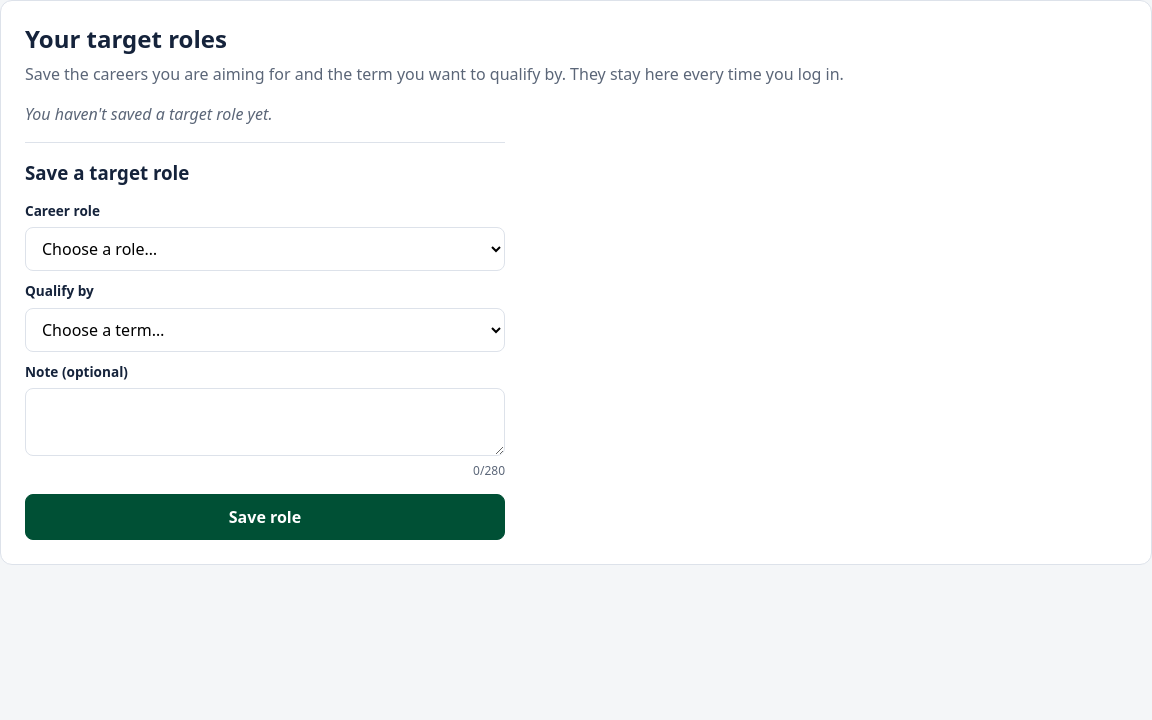
Issue #3: SavedRoles component › shows the server's error when saving fails
Select "Data Analyst" in the dropdown labelled "Career role". click: (265,249)
box: x1=25 y1=227 x2=505 y2=271
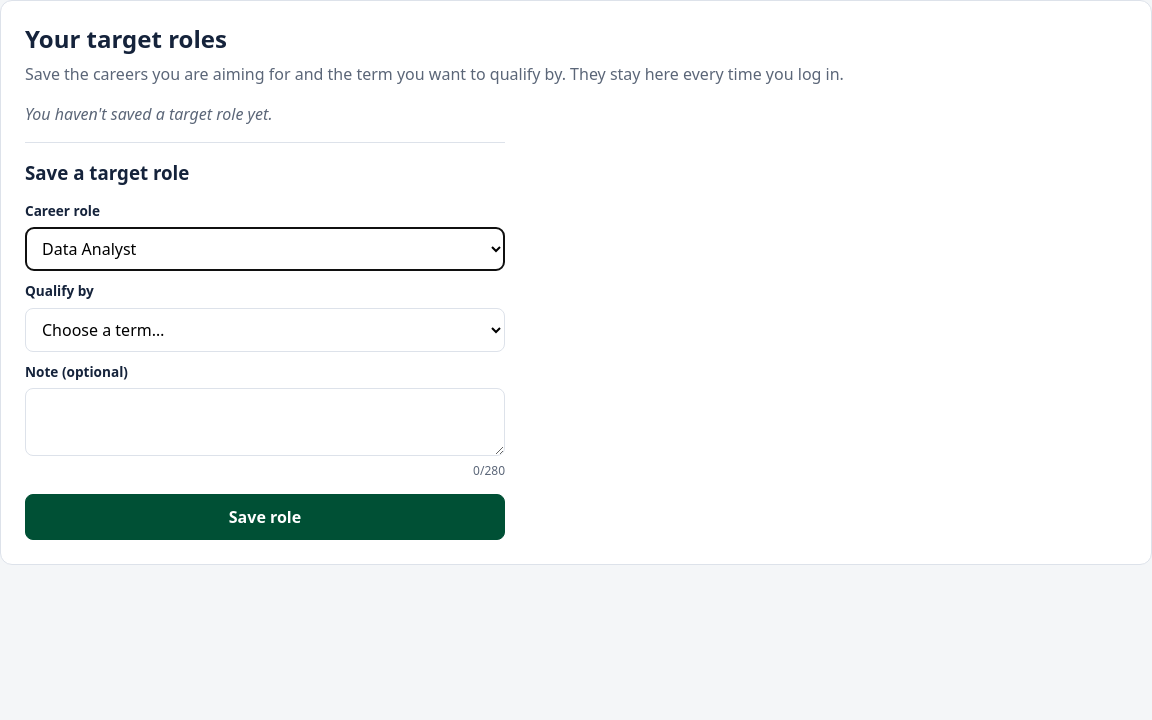
Select "Fall 2027" in the dropdown labelled "Qualify by". click: (265,330)
box: x1=25 y1=308 x2=505 y2=352
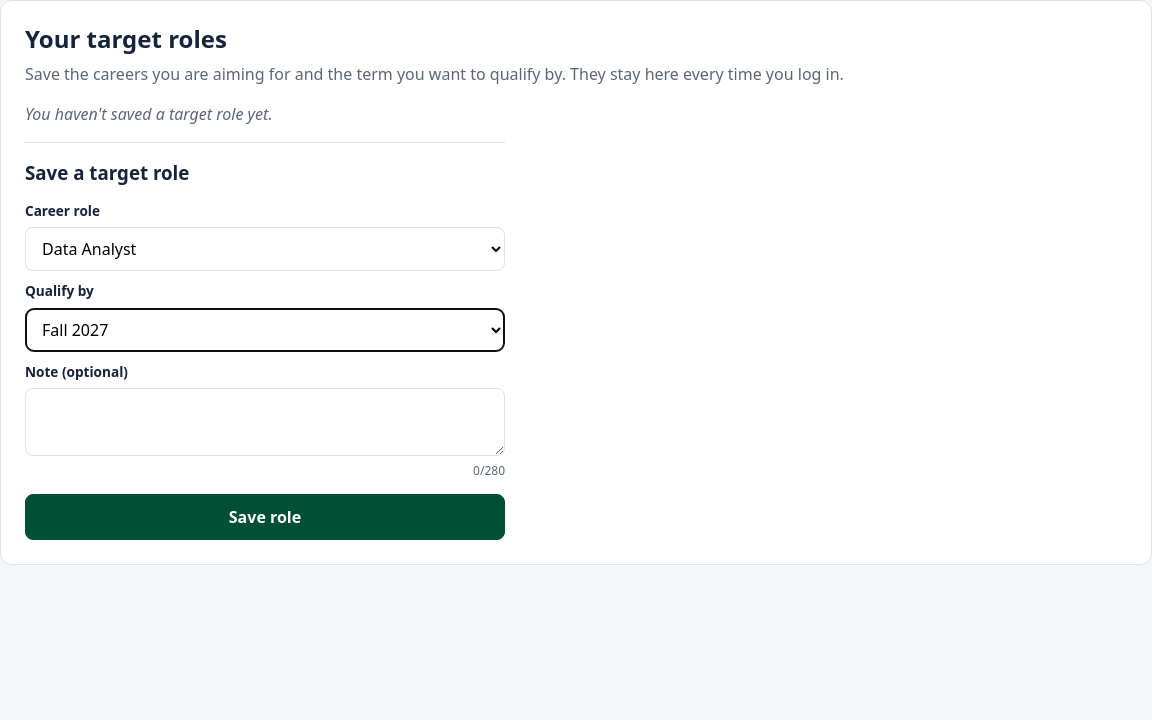
Click the button "Save role". click: (265,517)
box: x1=25 y1=494 x2=505 y2=540
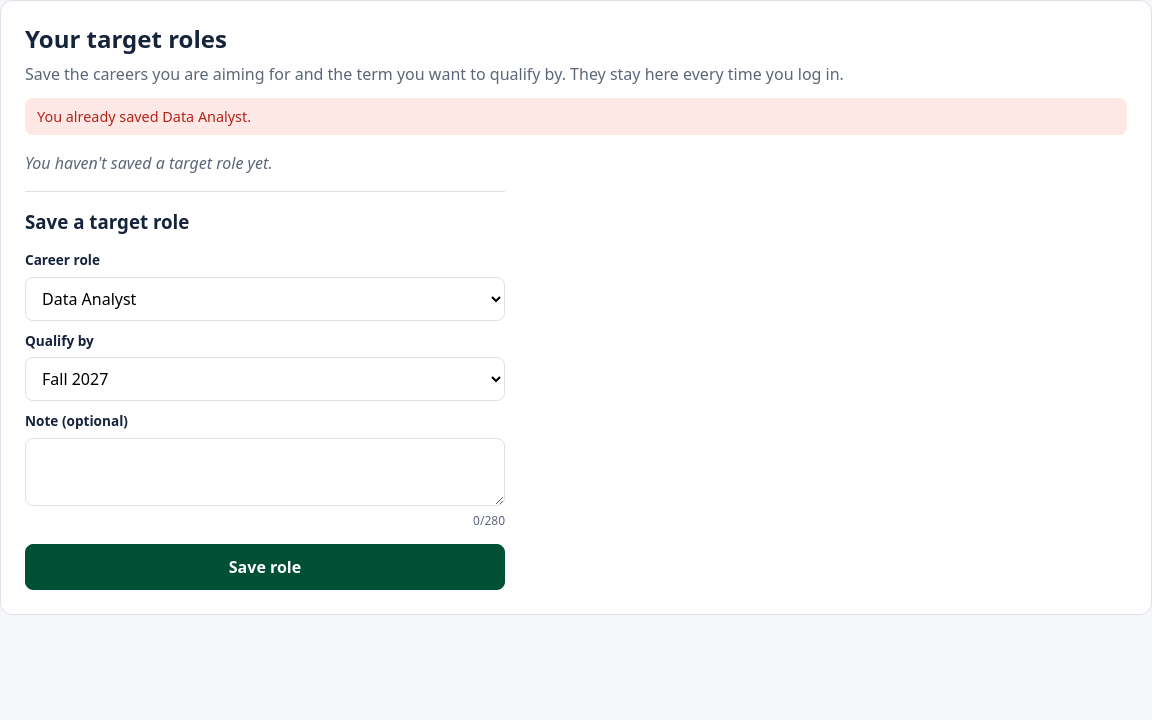
Result: the message reads "You already saved Data Analyst." at x1=37 y1=107 x2=251 y2=126
